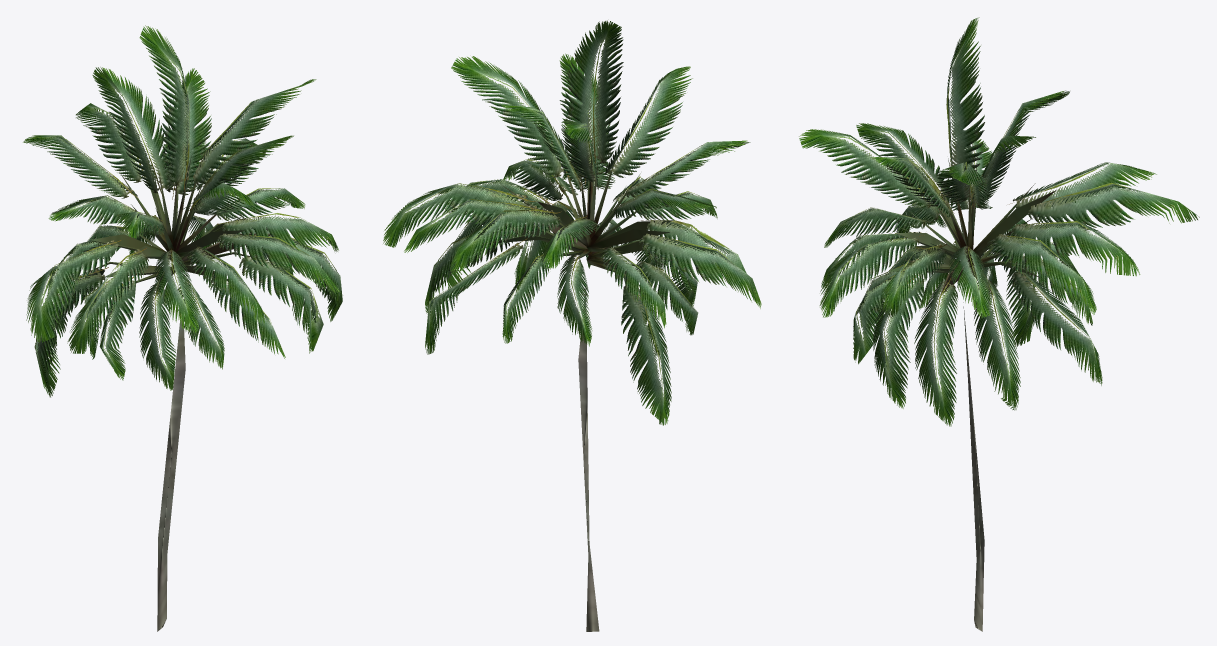
The model's file is palm-young-b.lod0.glb.
3 renders of one model, left to right at view 1: azimuth 30°, elevation 25°; view 2: azimuth 150°, elevation 25°; view 3: azimuth 270°, elevation 25°, orthographic.
Visible parts, largest first — view 1: SM_MZRa_Palm_B083_MI_MZRa_Palm_B08a_0, SM_MZRa_Palm_B083_MI_MZRa_Palm_B08b_0; view 2: SM_MZRa_Palm_B083_MI_MZRa_Palm_B08a_0, SM_MZRa_Palm_B083_MI_MZRa_Palm_B08b_0; view 3: SM_MZRa_Palm_B083_MI_MZRa_Palm_B08a_0, SM_MZRa_Palm_B083_MI_MZRa_Palm_B08b_0.
Boxes of the visible parts, x1=… form: SM_MZRa_Palm_B083_MI_MZRa_Palm_B08a_0: x1=23, y1=25, x2=342, y2=397; SM_MZRa_Palm_B083_MI_MZRa_Palm_B08b_0: x1=79, y1=154, x2=270, y2=631; SM_MZRa_Palm_B083_MI_MZRa_Palm_B08a_0: x1=383, y1=20, x2=761, y2=425; SM_MZRa_Palm_B083_MI_MZRa_Palm_B08b_0: x1=490, y1=132, x2=673, y2=631; SM_MZRa_Palm_B083_MI_MZRa_Palm_B08a_0: x1=799, y1=17, x2=1199, y2=426; SM_MZRa_Palm_B083_MI_MZRa_Palm_B08b_0: x1=889, y1=158, x2=1056, y2=631.
Size of the model in its own units: 2.95 by 5.49 by 3.32.
Materials: 2 (2 with a texture image).
